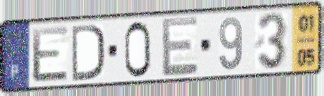0: (123, 19, 153, 80)
3: (252, 11, 291, 73)
9: (217, 15, 244, 73)
D: (70, 22, 107, 83)
E: (160, 15, 200, 80), (30, 24, 71, 85)
